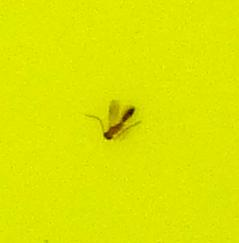Hymenoptera: (100, 100, 139, 143)
